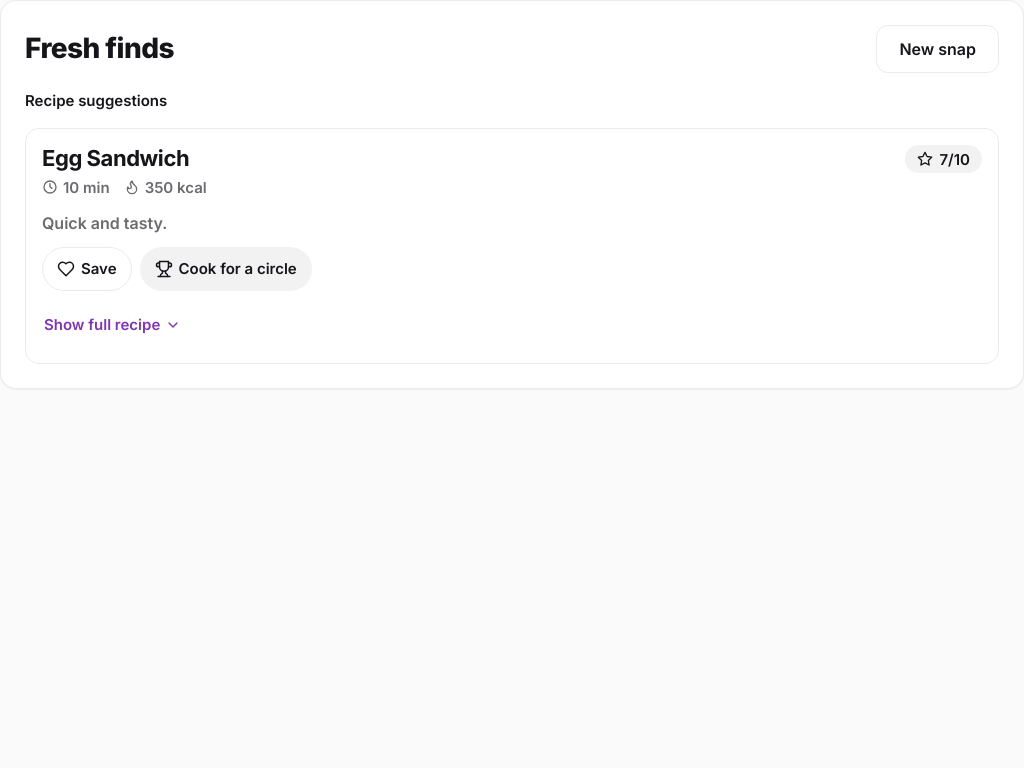
AnalysisResults score preview and backward compat › shows the fiber nutrition cell with a g suffix when fiber_g is present
What coordinates should you click on to do the following:
click the button "Show full recipe"
I would click on:
 (102, 325)
Its box is [42,303,982,347].
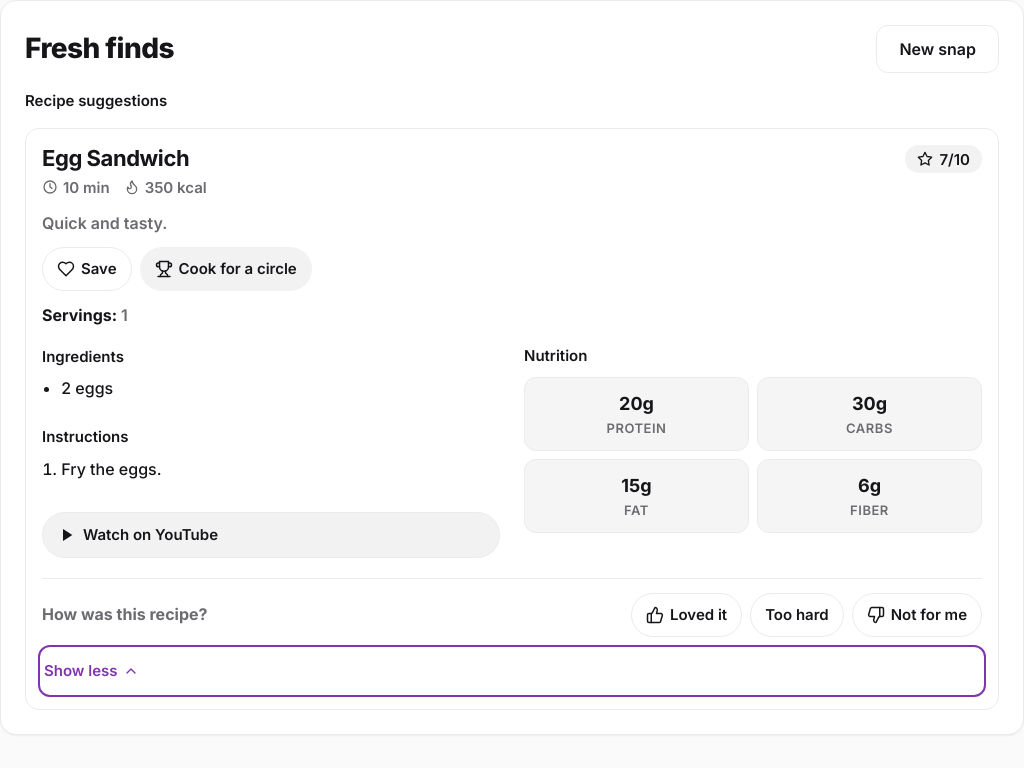
Now the text "6g" is shown, box [858,475,881,496]
Now the text "Fiber" is shown, box [850,502,889,518]
